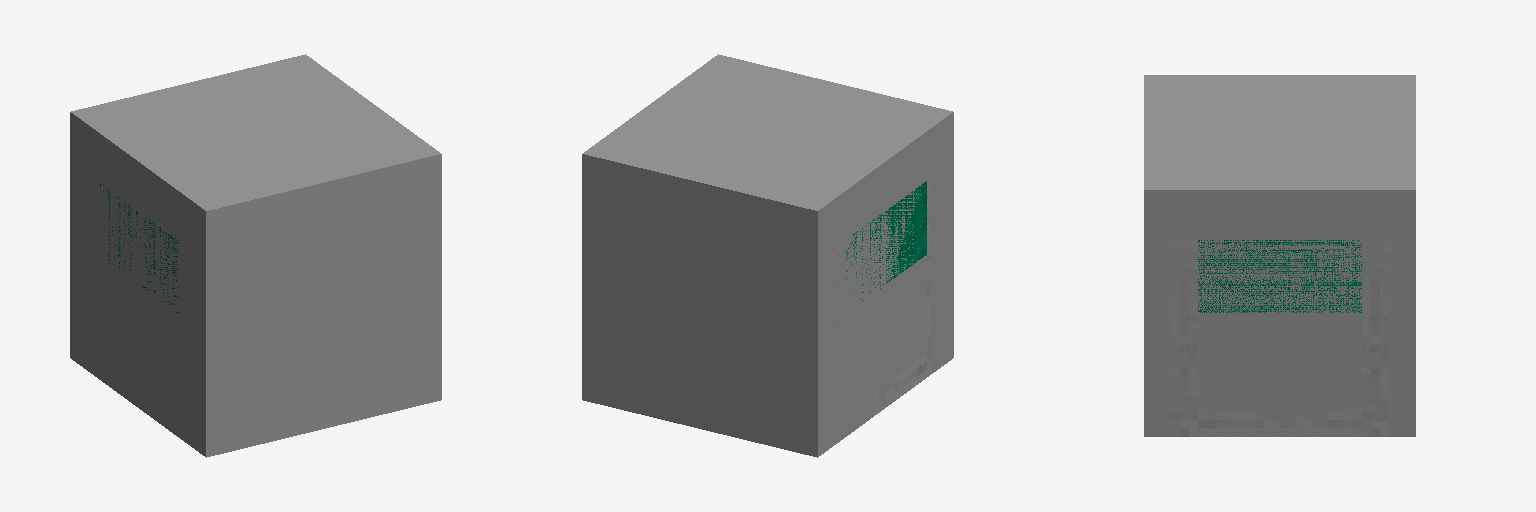
3 views of the same model, side by side, from view 1: azimuth 30°, elevation 25°; view 2: azimuth 150°, elevation 25°; view 3: azimuth 270°, elevation 25° (orthographic).
Parts seen in each view (by area): view 1: Minecraft_Block_Cube, main; view 2: Minecraft_Block_Cube, main; view 3: Minecraft_Block_Cube, main.
Part boxes in pixels (x1,y1,x2,y2): Minecraft_Block_Cube: (70, 54, 441, 457); main: (86, 184, 192, 445); Minecraft_Block_Cube: (582, 54, 953, 457); main: (831, 180, 935, 446); Minecraft_Block_Cube: (1144, 75, 1415, 436); main: (1171, 240, 1388, 436).
Bounding box in the file's own units: 1 × 1 × 1.
Materials: 2 (1 with a texture image).